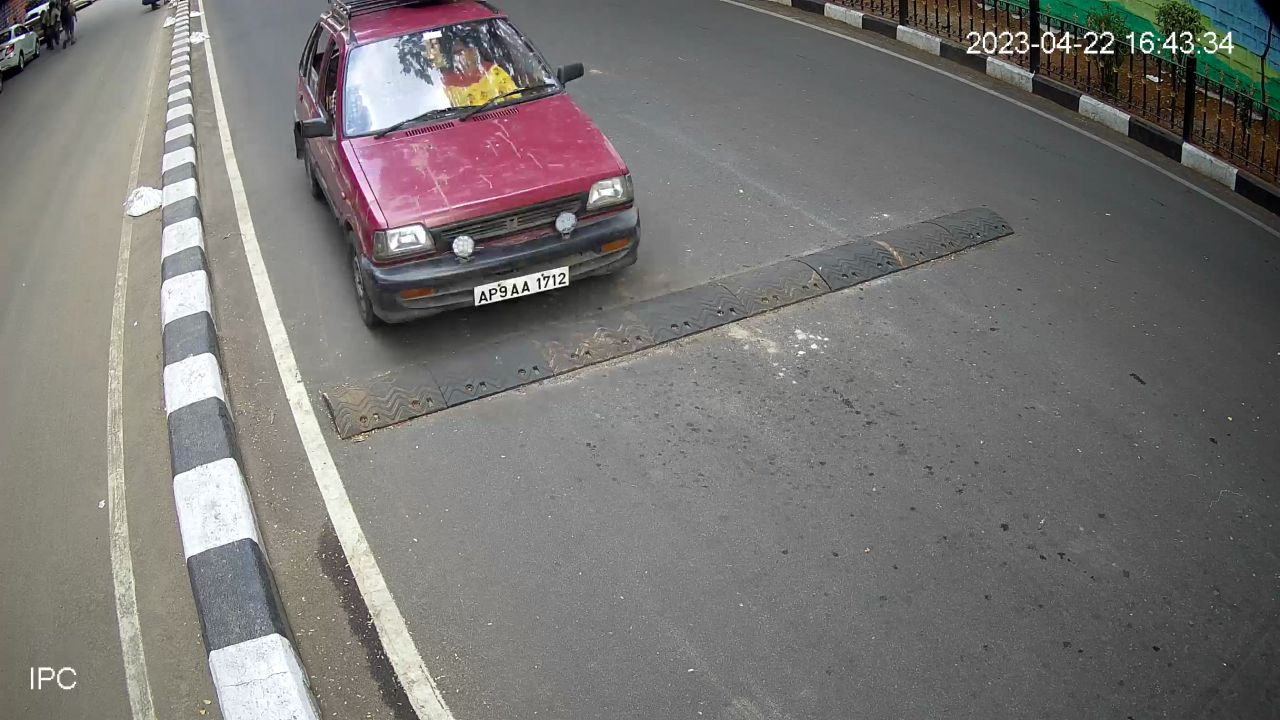license_plate: (467, 260, 573, 315)
